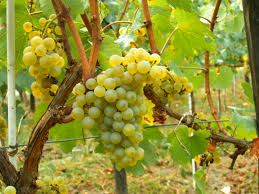Green grapes: (73, 52, 179, 166)
